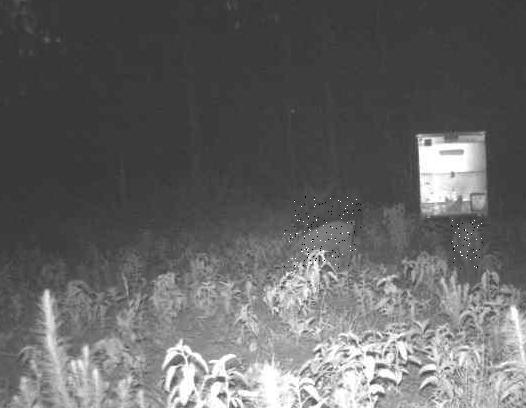Hog: (284, 222, 356, 268), (291, 196, 361, 234), (451, 220, 484, 269)
